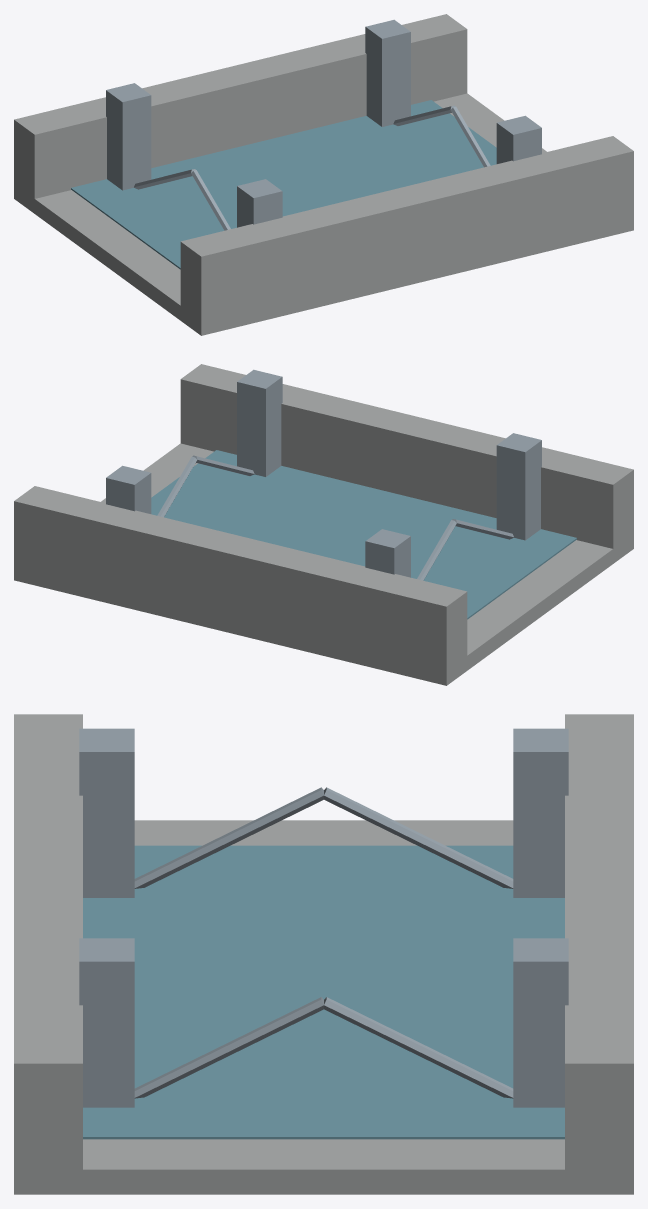
3 views of the same model, one above another, from view 1: azimuth 30°, elevation 25°; view 2: azimuth 150°, elevation 25°; view 3: azimuth 270°, elevation 25° (orthographic). The views are drawn at different scales.
Visible parts, largest first — view 1: worldgen; view 2: worldgen; view 3: worldgen.
Part boxes in pixels (<box>): worldgen: <box>14,14,633,335</box>; worldgen: <box>14,364,633,685</box>; worldgen: <box>14,714,633,1194</box>.
Size of the model in its own units: 60 by 14 by 45.
